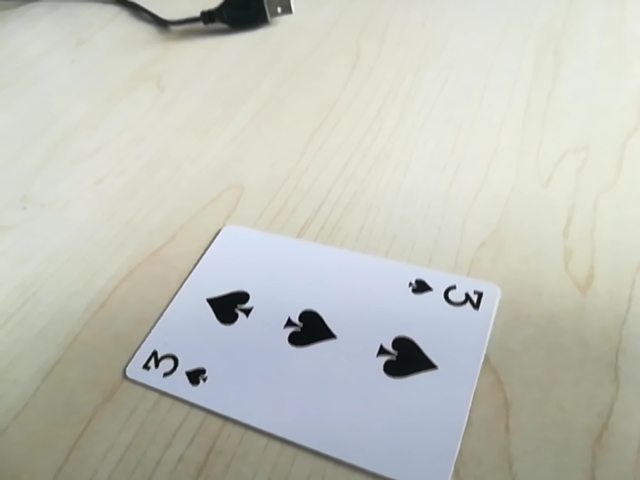ht 3: (402, 273, 492, 314), (132, 347, 213, 391)
